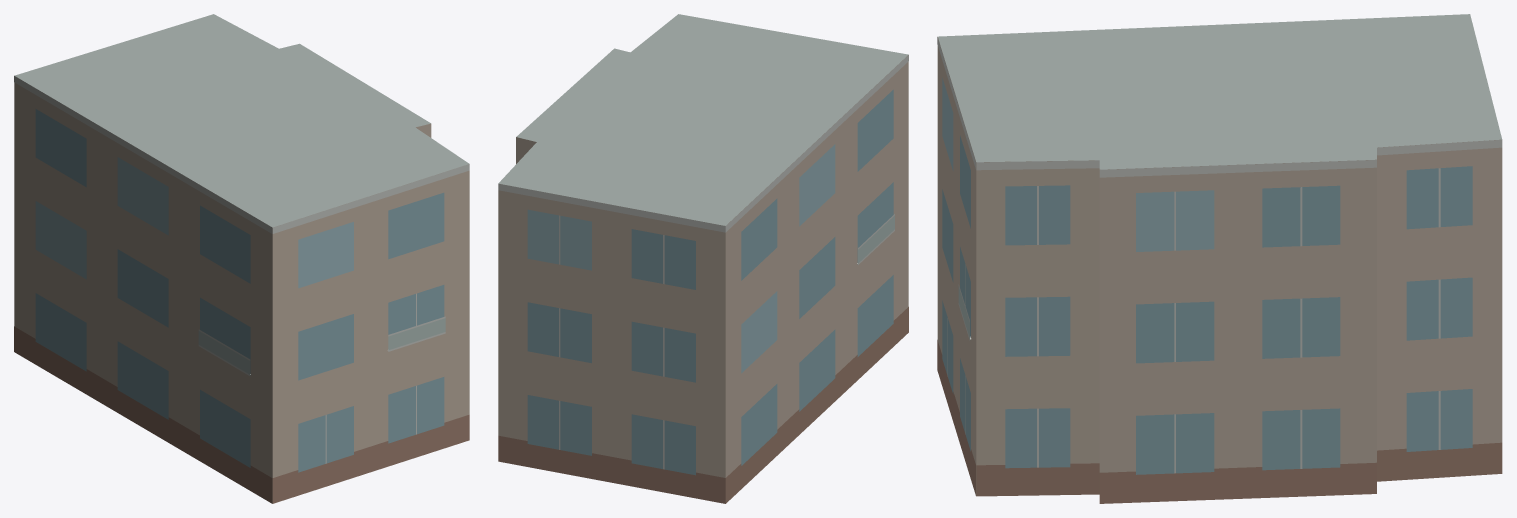
Rendered from survey-upis-33022920.glb.
3 renders of one model, left to right at view 1: azimuth 30°, elevation 25°; view 2: azimuth 150°, elevation 25°; view 3: azimuth 270°, elevation 25°, orthographic. The views are drawn at different scales.
Visible parts, largest first — view 1: survey-upis-33022920.tmp; view 2: survey-upis-33022920.tmp; view 3: survey-upis-33022920.tmp.
Boxes of the visible parts, box(x1,y1,x2,y2) form: survey-upis-33022920.tmp: box(14, 14, 469, 503); survey-upis-33022920.tmp: box(498, 14, 908, 503); survey-upis-33022920.tmp: box(937, 14, 1502, 503).
Bounding box in the file's own units: 10.2 × 10.2 × 15.63.
